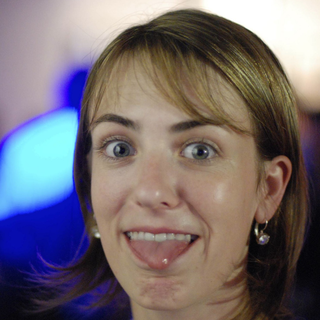eye: (174, 134, 227, 168), (90, 136, 145, 164)
